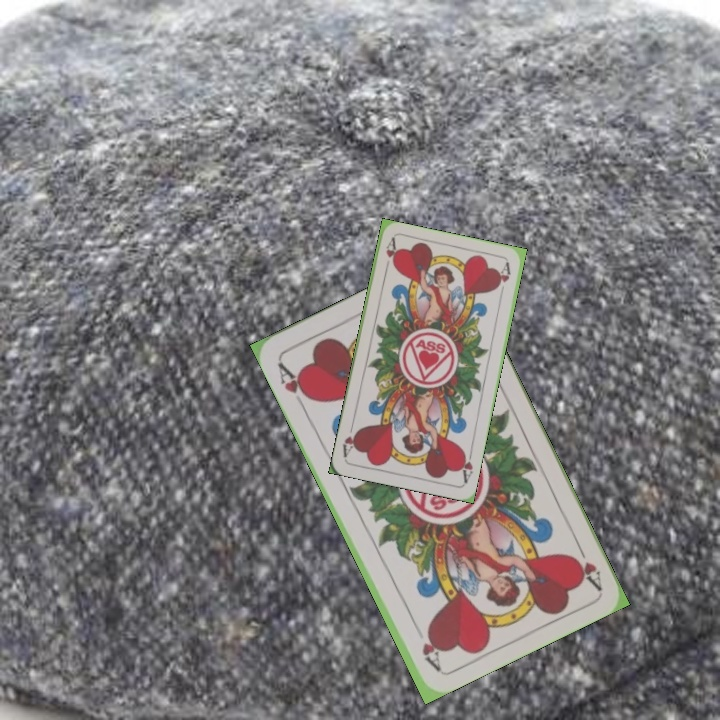HA: (273, 357, 314, 411), (567, 536, 605, 591), (380, 235, 399, 276), (456, 445, 475, 485)
